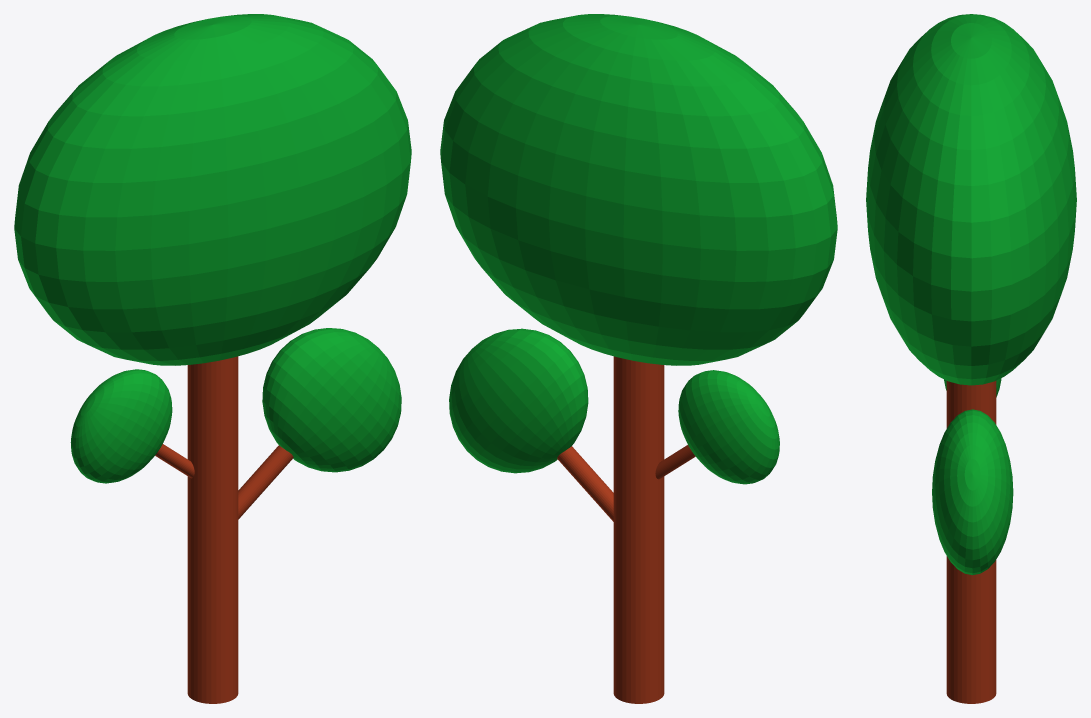
File: arbol.obj
3 renders of one model, left to right at view 1: azimuth 30°, elevation 25°; view 2: azimuth 150°, elevation 25°; view 3: azimuth 270°, elevation 25°, orthographic.
Visible parts, largest first — view 1: Cylinder.002_Cylinder.004; view 2: Cylinder.002_Cylinder.004; view 3: Cylinder.002_Cylinder.004.
Boxes of the visible parts, x1,y1,x2,y2 form: Cylinder.002_Cylinder.004: [14, 14, 411, 703]; Cylinder.002_Cylinder.004: [440, 14, 837, 703]; Cylinder.002_Cylinder.004: [866, 14, 1076, 703].
Bounding box in the file's own units: 16.19 × 26.93 × 7.85.
